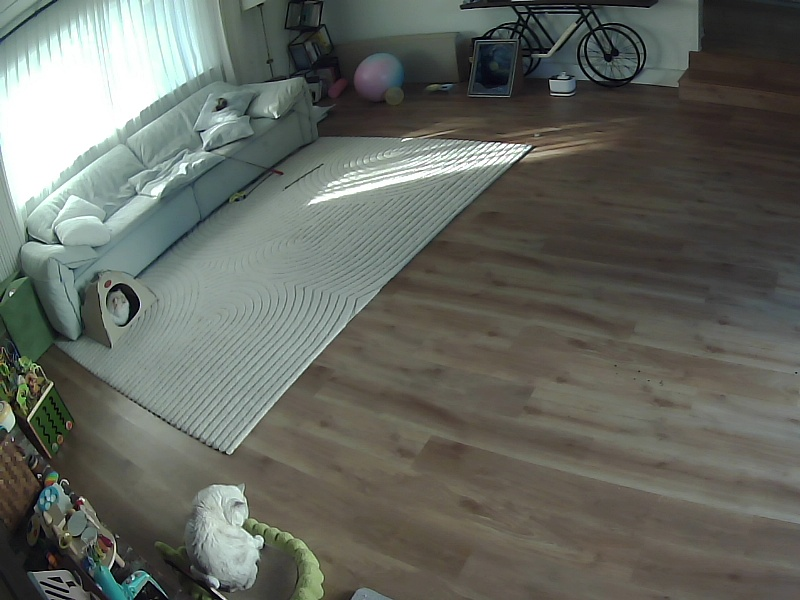Qb-2: (185, 484, 263, 590)
Qbo-2: (106, 289, 129, 325)
